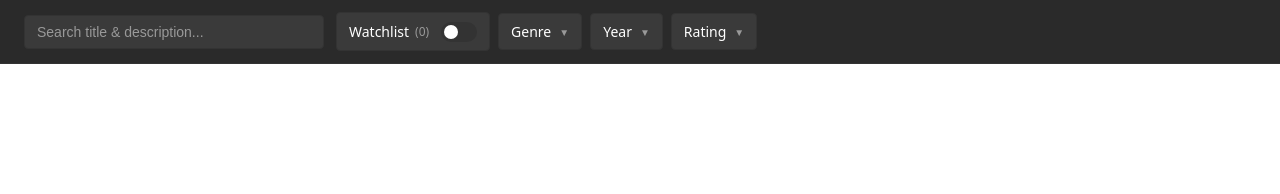
it: LibraryFilters › opens dropdown on click
The width and height of the screenshot is (1280, 194).
Click the text "Genre": (531, 32) [511,22,551,41]
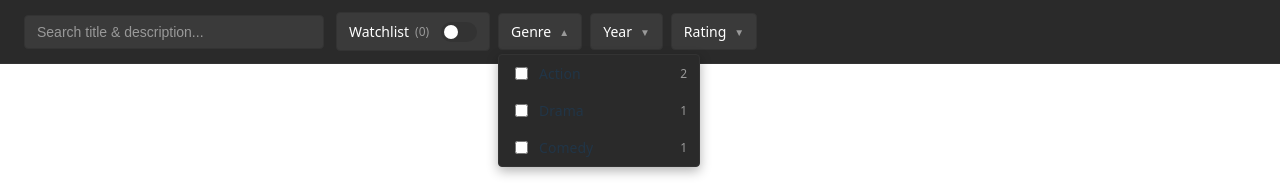
Check: the text "Action" is shown, box [539,64,581,83]
